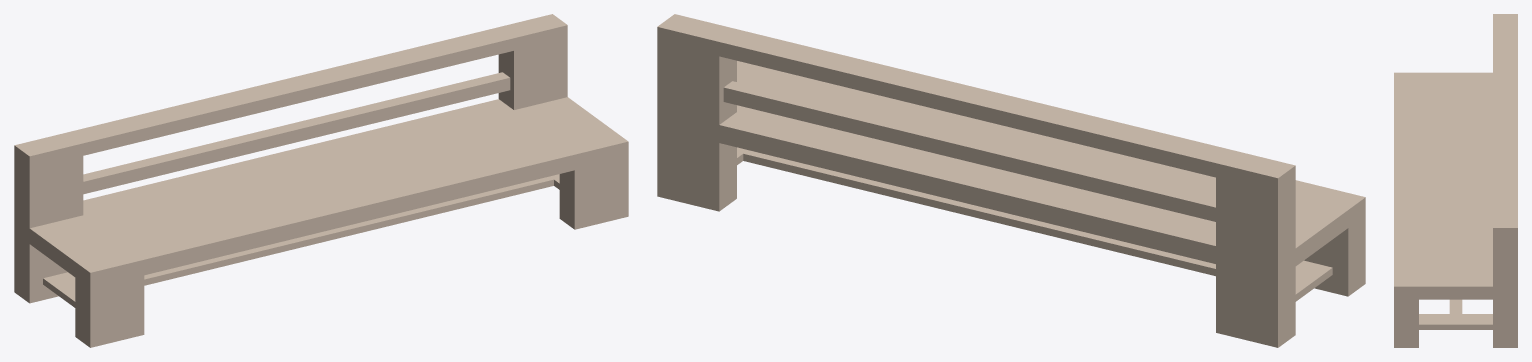
The model's file is bench_a.glb.
3 views of the same model, side by side, from view 1: azimuth 30°, elevation 25°; view 2: azimuth 150°, elevation 25°; view 3: azimuth 270°, elevation 25° (orthographic). The views are drawn at different scales.
Size of the model in its own units: 1.8 by 0.47 by 0.44.
